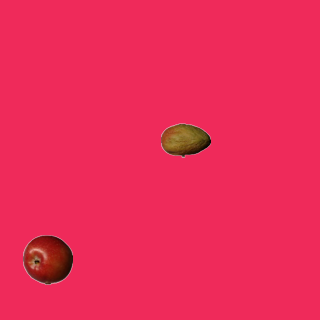Apple Braeburn: (22, 234, 72, 284)
Papaya: (160, 115, 210, 165)
